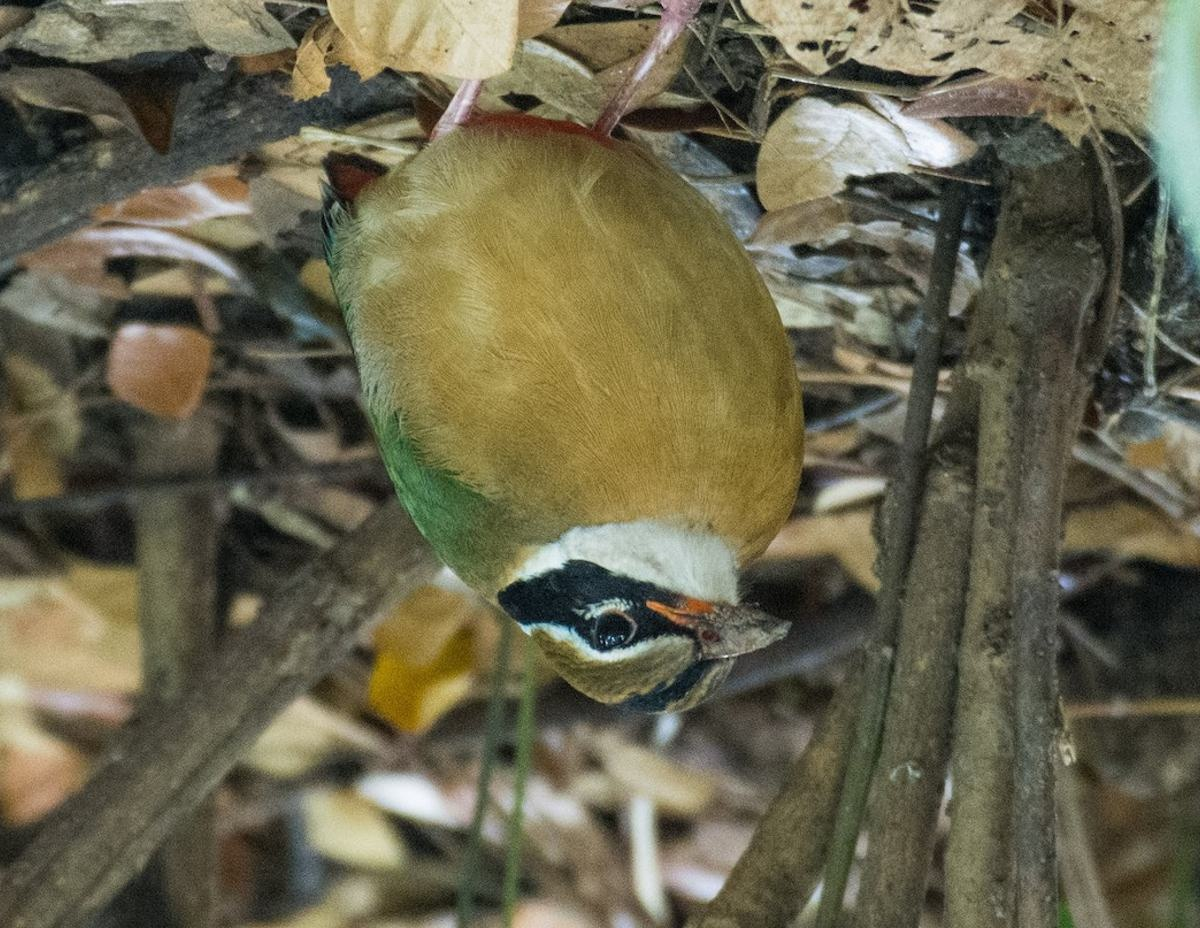pitta: (233, 1, 813, 748)
